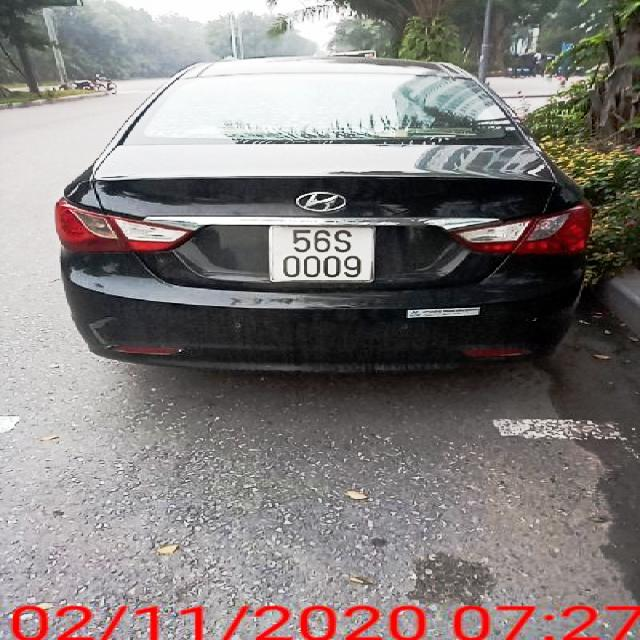license_plate: (273, 227, 376, 284)
